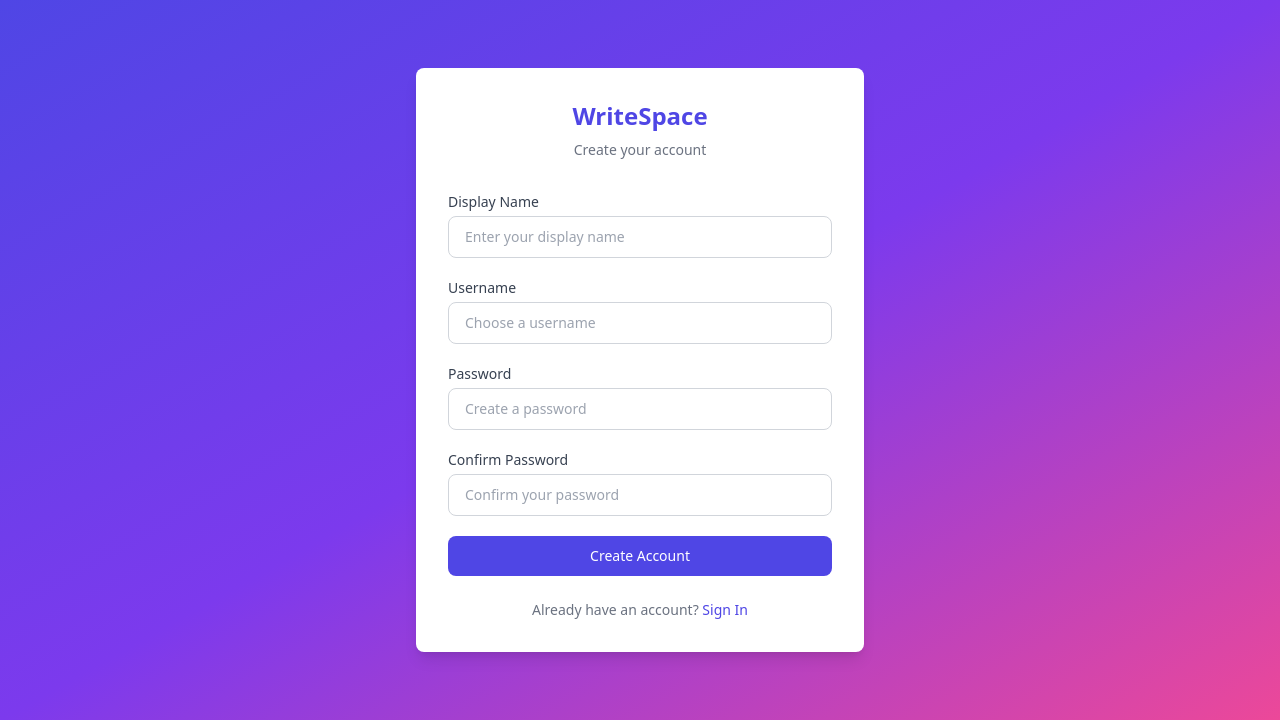
Test case: RegisterPage › validation › displays error when username is empty
Type "John Doe" into the field labelled "Display Name" at (640, 237), box [448, 216, 832, 258]
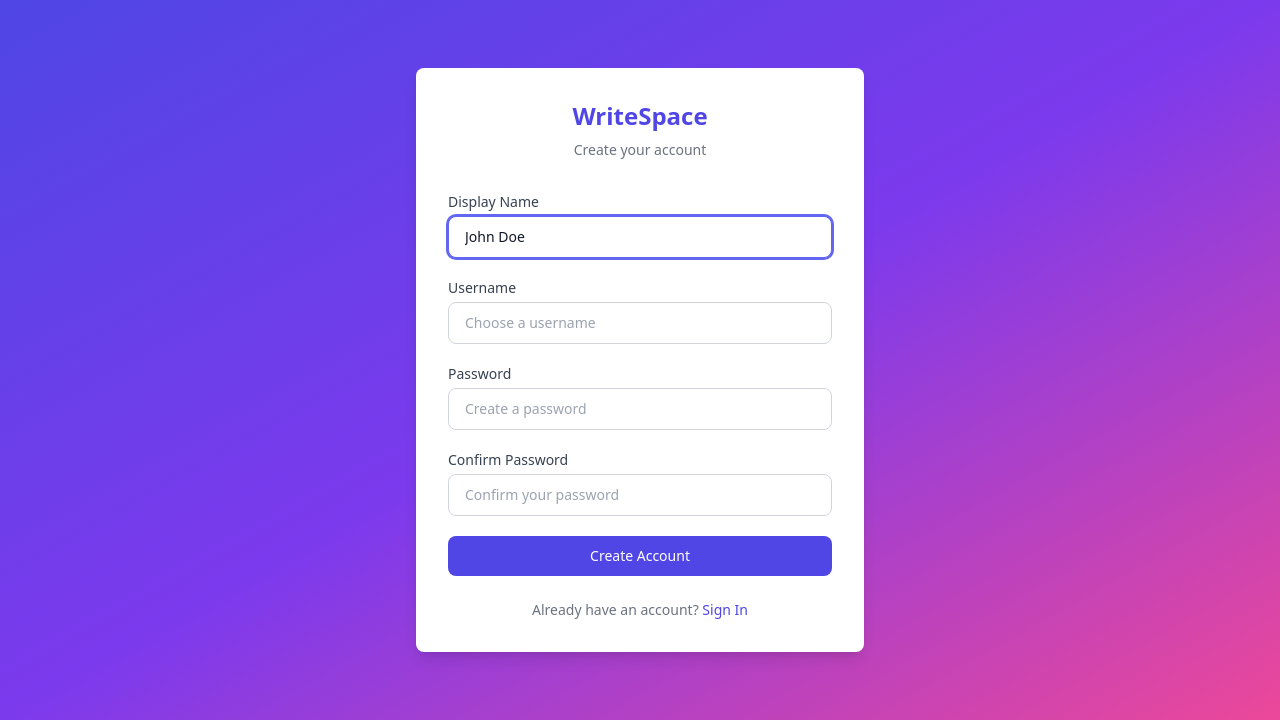
Type "pass123" into the password field labelled "Password" at (640, 409), box [448, 388, 832, 430]
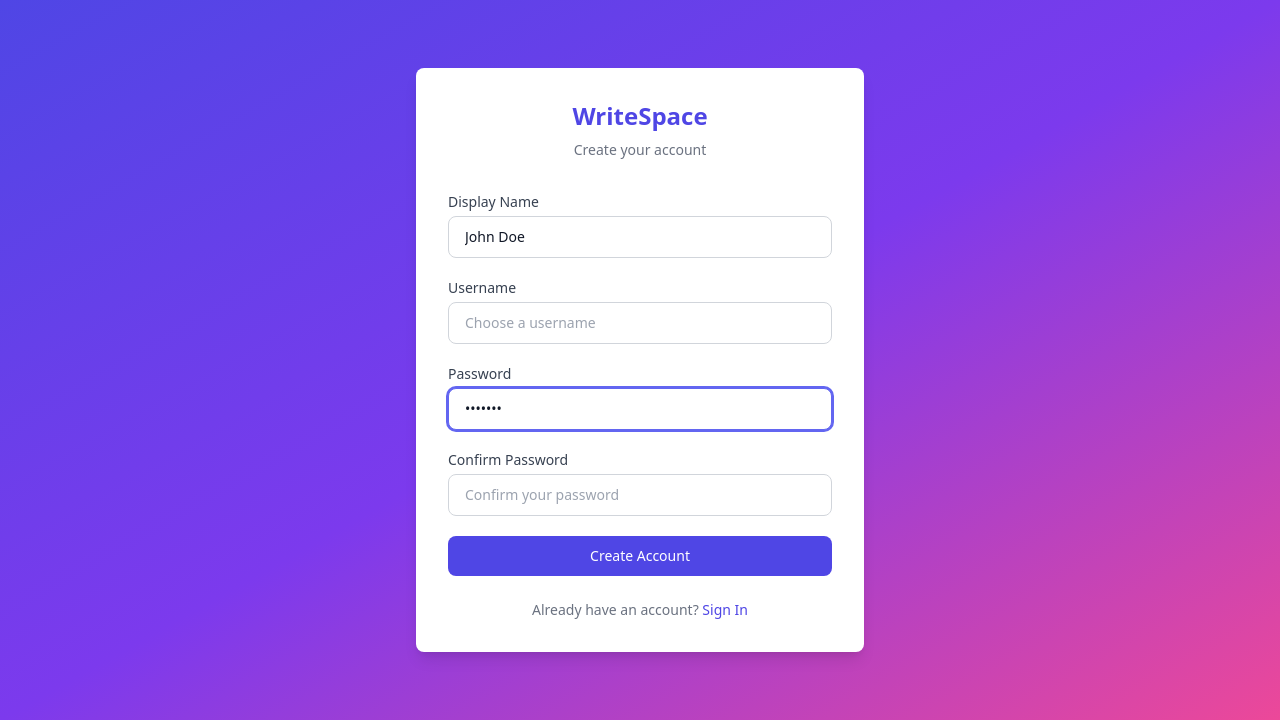
Type "pass123" into the password field labelled "Confirm Password" at (640, 495), box [448, 474, 832, 516]
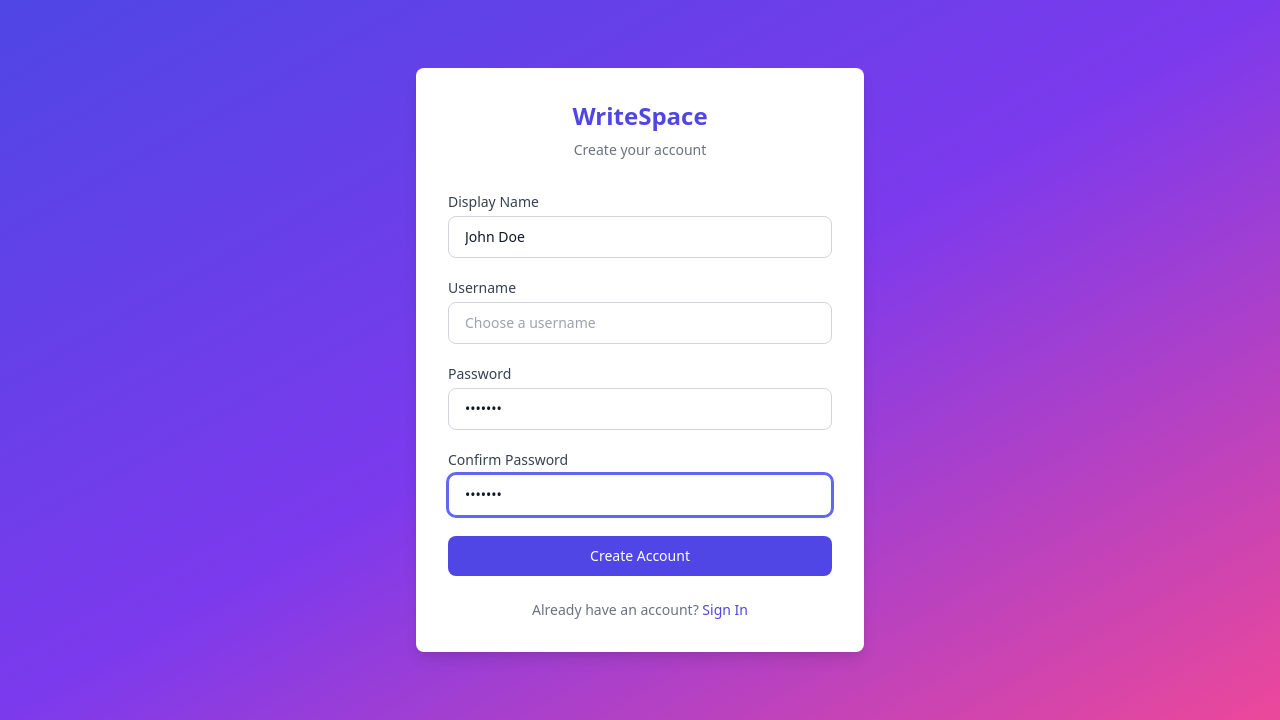
Click the button "Create Account" at (640, 556), box [448, 536, 832, 576]
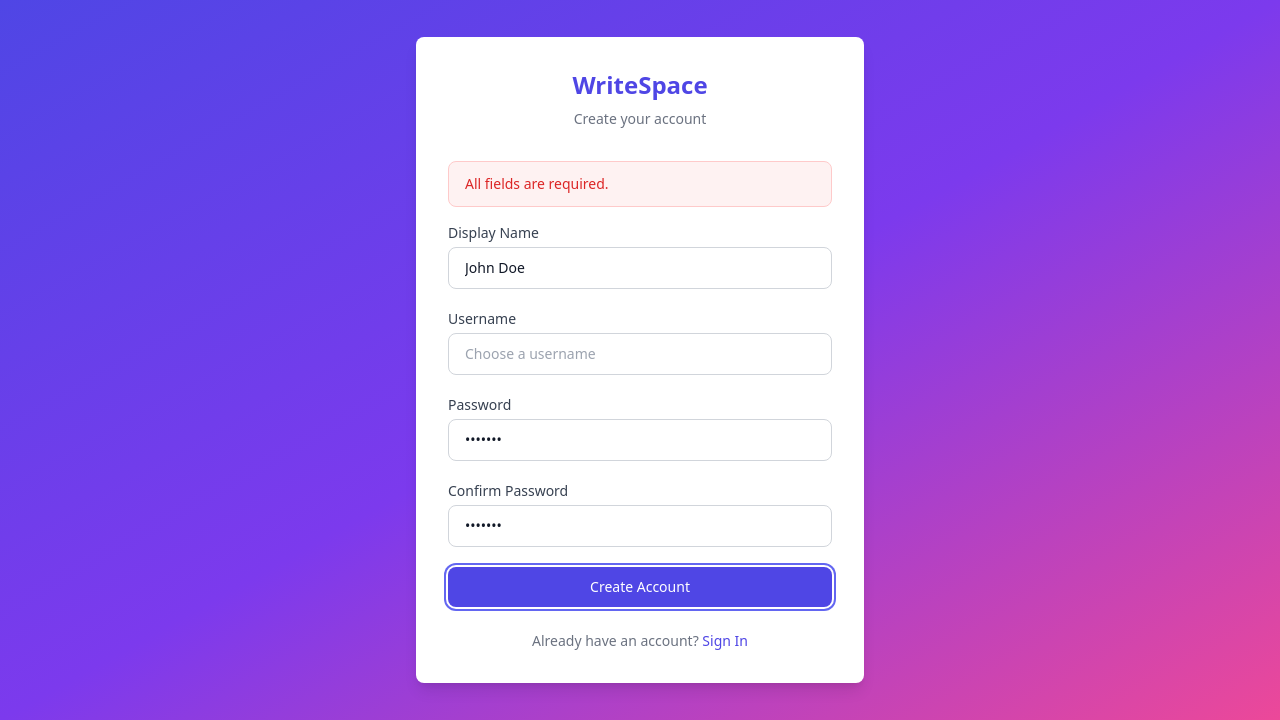
Result: the text "All fields are required." is shown at [448, 161, 832, 207]
